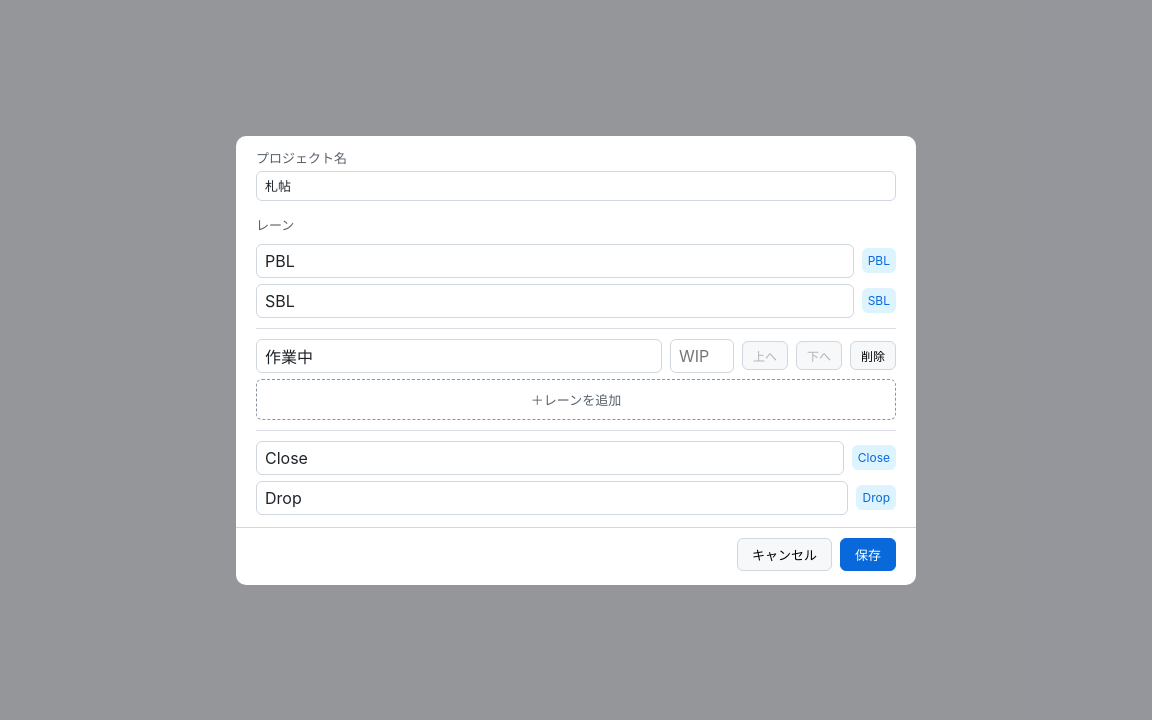
Test: SettingsDialog › Error以外の例外も文字列化して表示する
Step 1. Click the button "保存" → (868, 554), box [840,538,896,570]
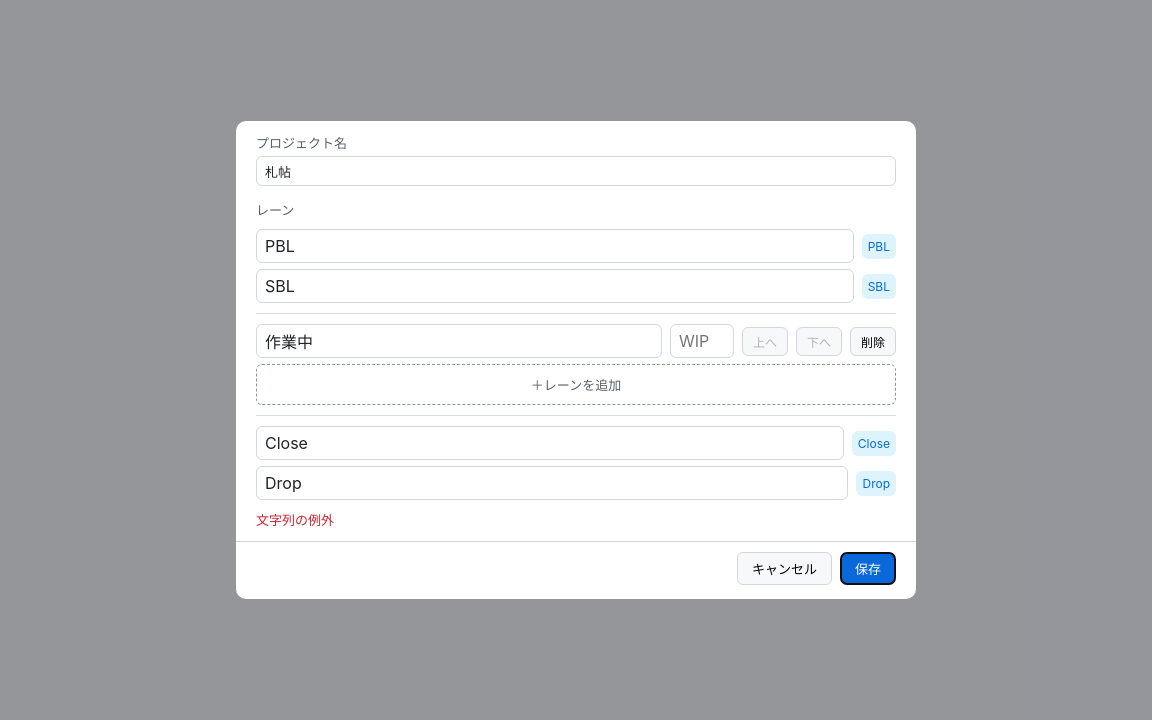
Expected: the text "文字列の例外" is shown, [256,512,334,528]
